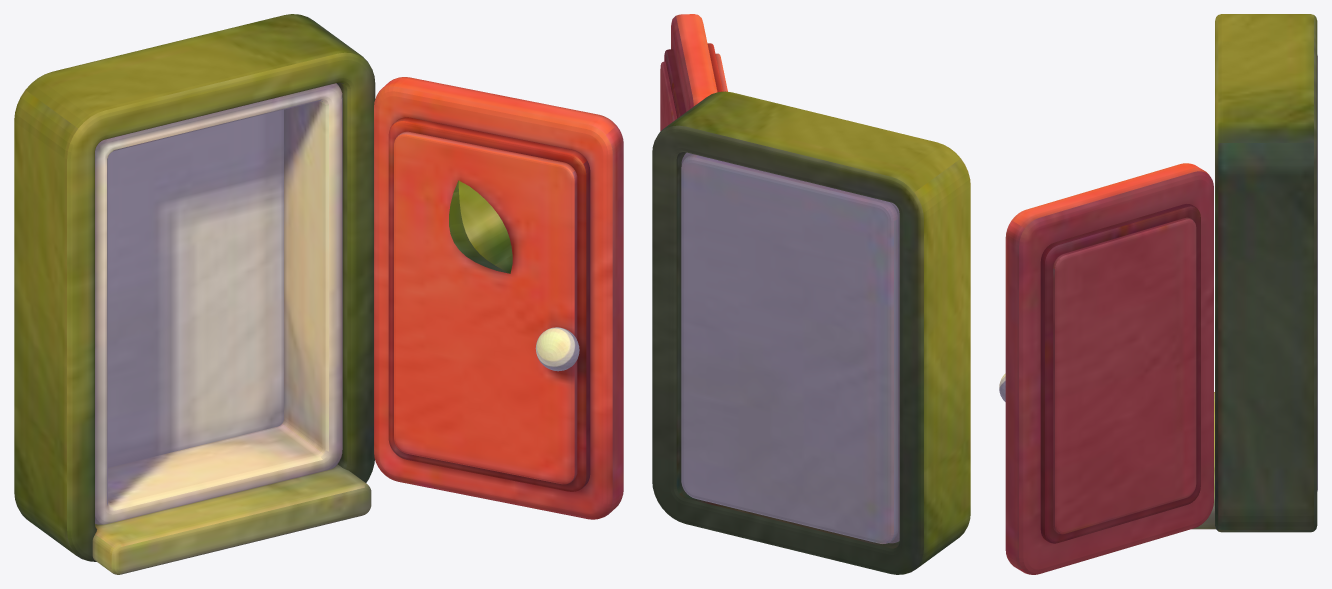
File: introduction.glb
3 views of the same model, side by side, from view 1: azimuth 30°, elevation 25°; view 2: azimuth 150°, elevation 25°; view 3: azimuth 270°, elevation 25° (orthographic). The views are drawn at different scales.
Visible parts, largest first — view 1: Cream door jamb; view 2: Cream door jamb; view 3: Cream door jamb.
Boxes of the visible parts, left/top/right/bottom form: Cream door jamb: left=14, top=14, right=623, bottom=574; Cream door jamb: left=652, top=14, right=970, bottom=574; Cream door jamb: left=999, top=14, right=1317, bottom=574.
Size of the model in its own units: 2.2 by 2.12 by 1.5.
Materials: 1 (1 with a texture image).
